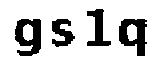1: (82, 6, 115, 49)
g: (11, 16, 43, 60)
q: (116, 13, 148, 60)
s: (47, 17, 76, 50)
